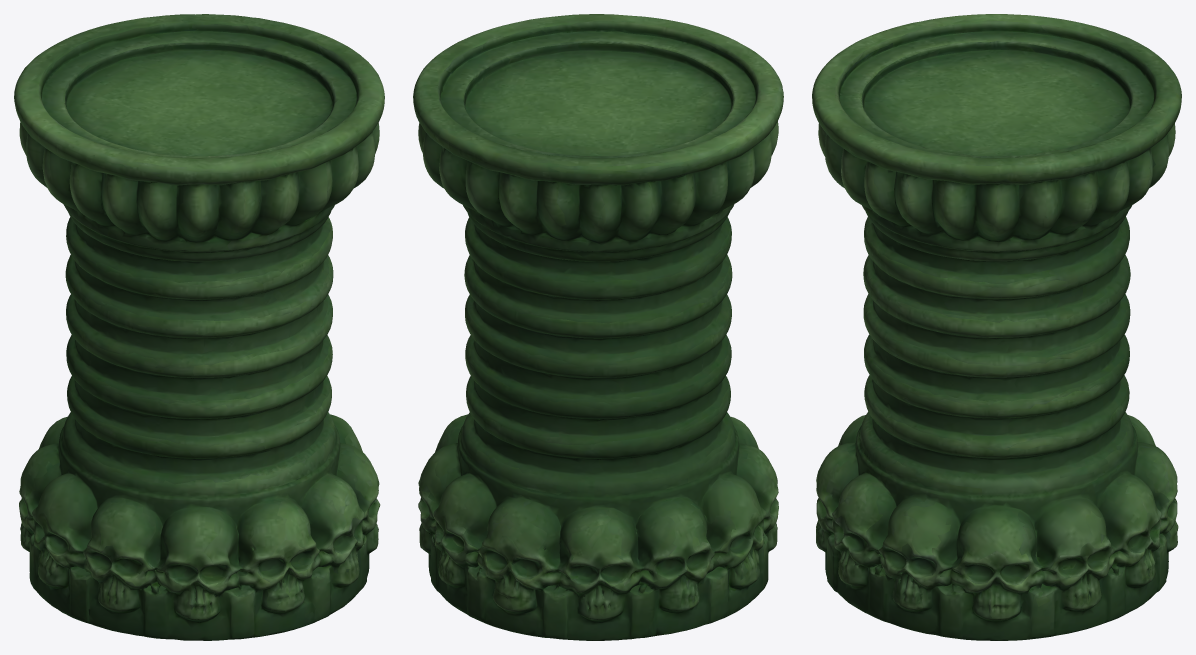
File: COL2A0_2026-08-19T234655.406.glb
The picture shows the model from 3 angles, left to right: view 1: azimuth 30°, elevation 25°; view 2: azimuth 150°, elevation 25°; view 3: azimuth 270°, elevation 25°; orthographic projection.
Visible parts, largest first — view 1: world; view 2: world; view 3: world.
Boxes of the visible parts, left/top/right/bottom form: world: left=14, top=14, right=384, bottom=640; world: left=413, top=14, right=783, bottom=640; world: left=812, top=14, right=1181, bottom=640.
Size of the model in its own units: 0.7014 by 1 by 0.7015.
1 material, 1 textured.
